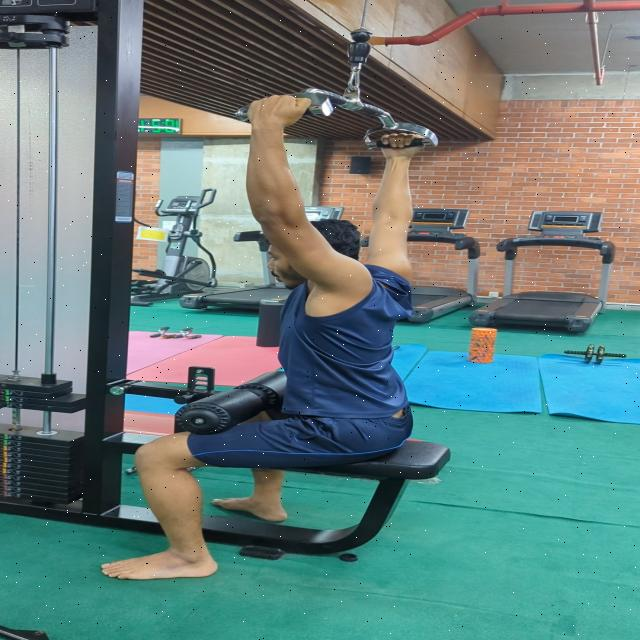Normal_LatPulldown: (68, 74, 471, 598)
